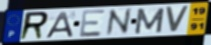A: (43, 11, 74, 39)
E: (79, 8, 107, 38)
M: (133, 7, 167, 35)
N: (105, 7, 132, 37)
R: (18, 10, 51, 41)
V: (164, 6, 191, 34)
